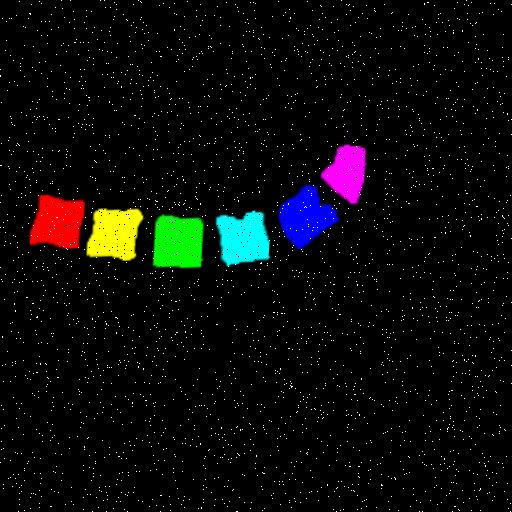L1: (34, 194, 88, 248)
L2: (92, 209, 145, 260)
L3: (157, 215, 207, 268)
L4: (220, 212, 274, 265)
L5: (283, 186, 340, 249)
S1: (324, 147, 368, 204)
